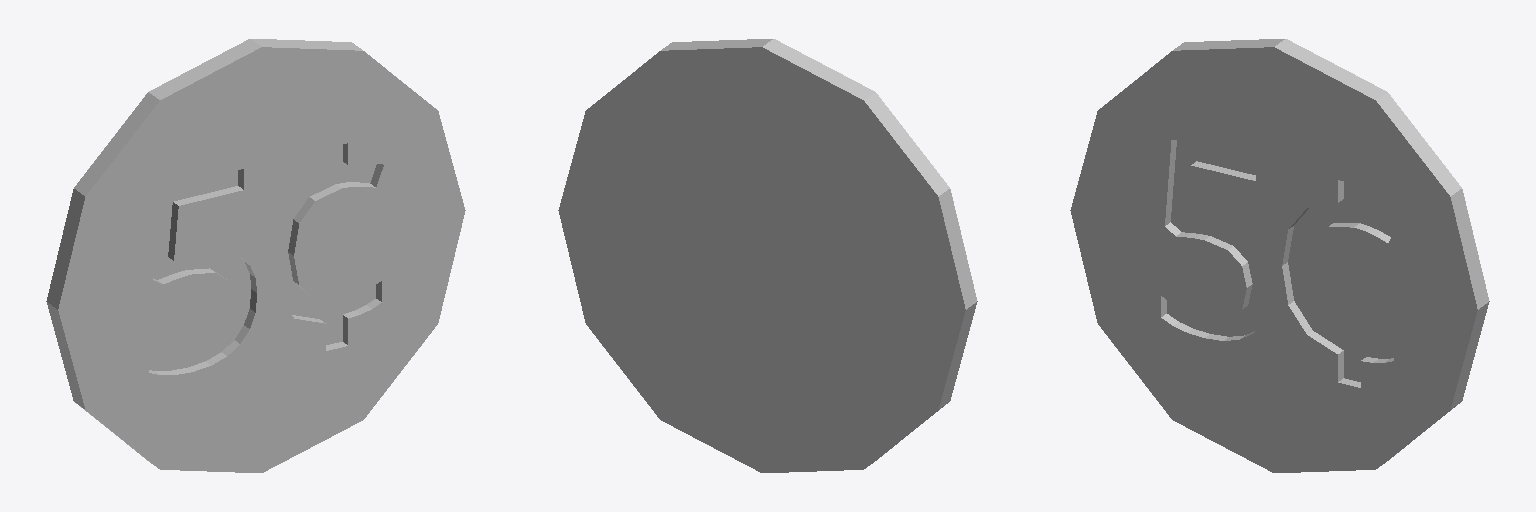
3 renders of one model, left to right at view 1: azimuth 30°, elevation 25°; view 2: azimuth 150°, elevation 25°; view 3: azimuth 330°, elevation 25°, orthographic.
Visible parts, largest first — view 1: group_0_undefined; view 2: group_0_undefined; view 3: group_0_undefined.
Part boxes in pixels (x1,y1,x2,y2): group_0_undefined: (46,39,465,472); group_0_undefined: (558,39,977,472); group_0_undefined: (1070,39,1489,472).
Size of the model in its own units: 10 by 10 by 0.5.